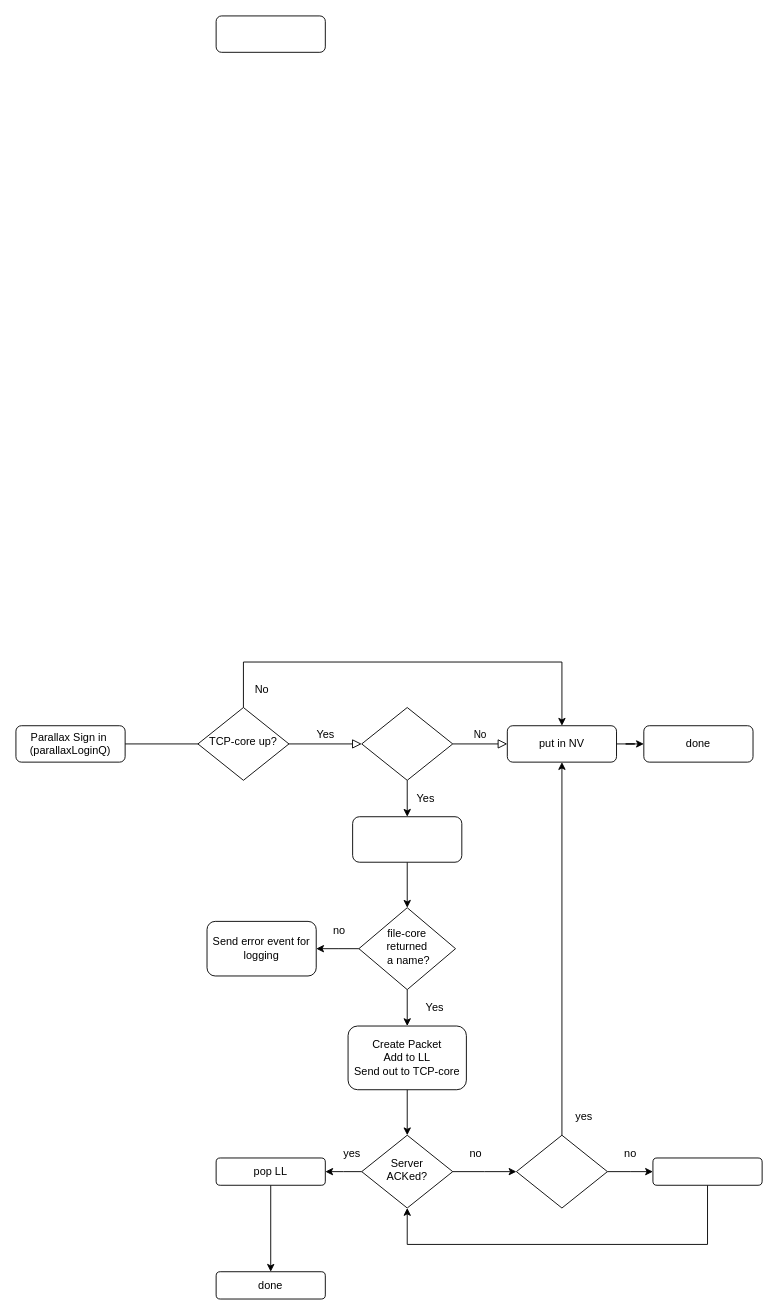
This 778x1315 diagram has some shape labels left out. The shapes that lost their labels are listed below. From the top down, each one's centre as x and y in pixels, then its label:
At (x=270, y=33): "cmd from server".
At (x=407, y=743): "Master Core Registered?".
At (x=407, y=839): "check file-core, translate loginId to a name".
At (x=561, y=1171): "Timed out?".
At (x=707, y=1171): "sleep for a bit".
